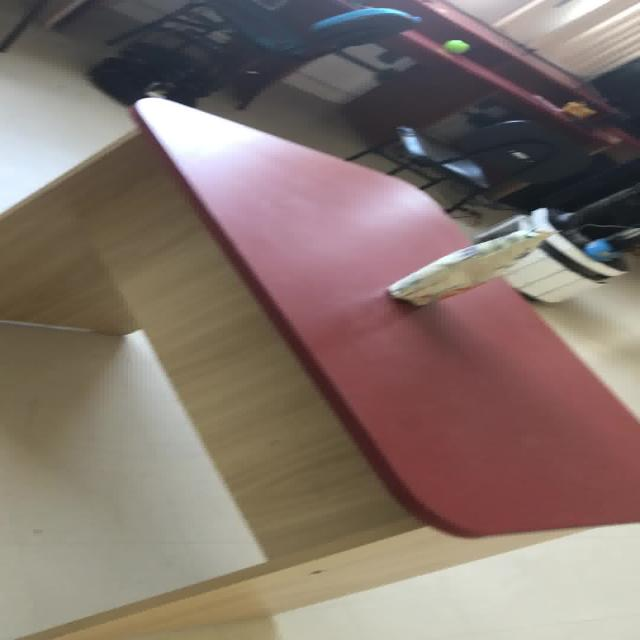corn flakes: (385, 226, 557, 307)
